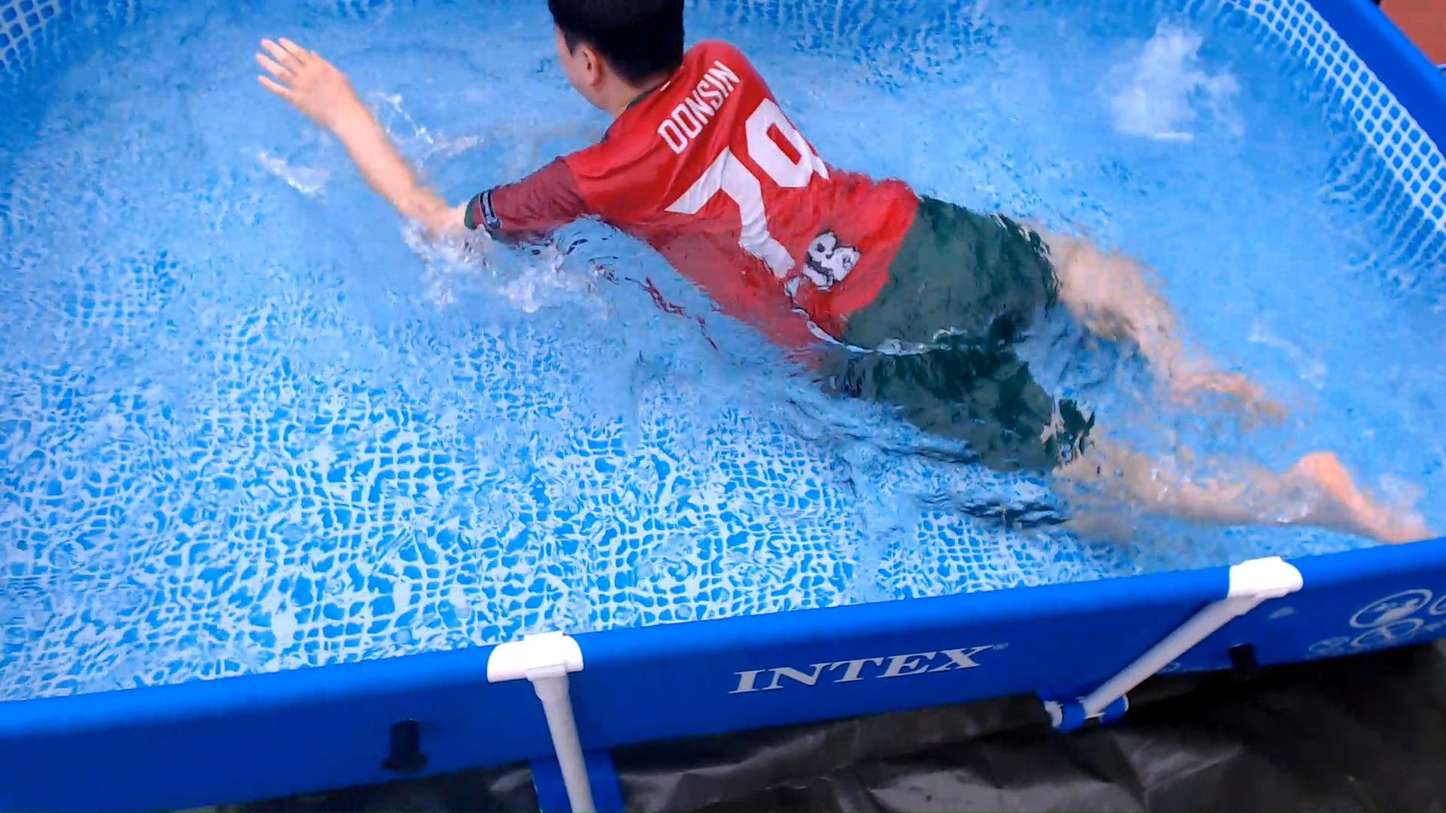Drowning: (250, 3, 1407, 546)
